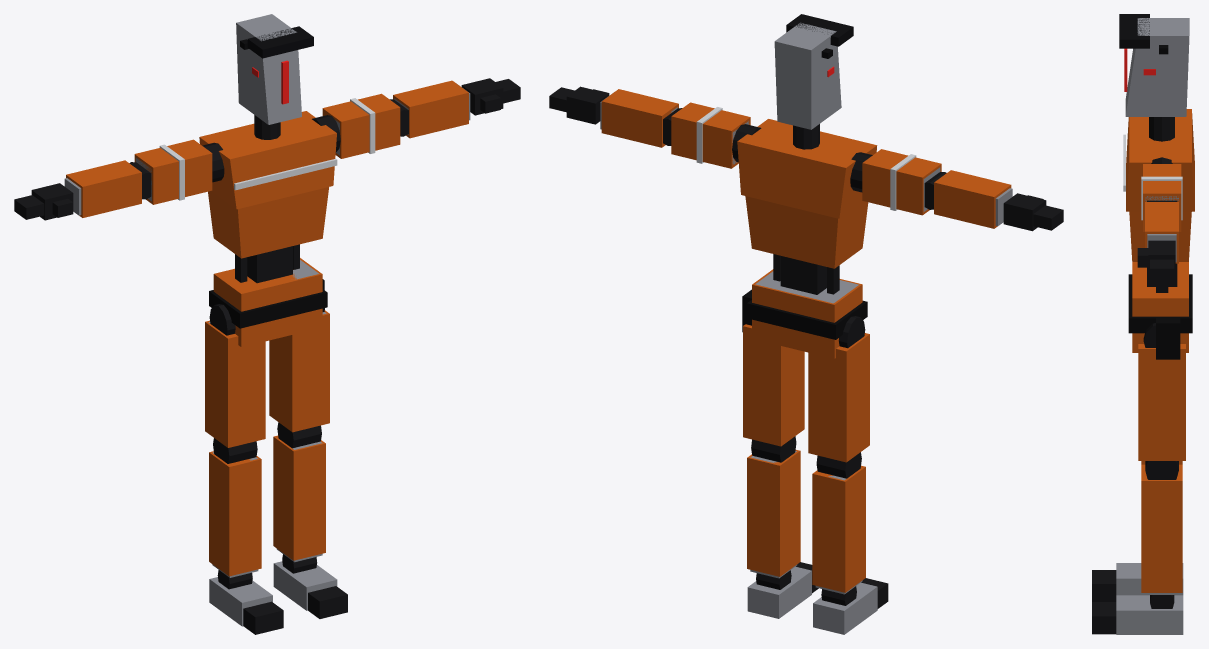
The model's file is char_F2_engineer.obj.
3 renders of one model, left to right at view 1: azimuth 30°, elevation 25°; view 2: azimuth 150°, elevation 25°; view 3: azimuth 270°, elevation 25°, orthographic. The views are drawn at different scales.
Parts seen in each view (by area): view 1: Coverall_Engineering, ChassisJoints, Chassis, ToolBelt, Coverall_Engineering_Stripe, WeldVisor_Plate; view 2: Coverall_Engineering, Chassis, ChassisJoints, ToolBelt, WeldVisor_Plate, Coverall_Engineering_Stripe; view 3: Coverall_Engineering, Chassis, ChassisJoints, ToolBelt, WeldVisor_Plate, Coverall_Engineering_Stripe, Eyes.
Boxes of the visible parts, <box> form: Coverall_Engineering: <box>66,80,468,576</box>; ChassisJoints: <box>14,78,520,634</box>; Chassis: <box>64,14,470,626</box>; ToolBelt: <box>209,279,327,328</box>; Coverall_Engineering_Stripe: <box>159,98,375,200</box>; WeldVisor_Plate: <box>247,26,313,58</box>; Coverall_Engineering: <box>601,89,1011,592</box>; Chassis: <box>600,22,1012,634</box>; ChassisJoints: <box>549,86,1063,608</box>; ToolBelt: <box>742,289,867,339</box>; WeldVisor_Plate: <box>786,14,853,46</box>; Coverall_Engineering_Stripe: <box>696,107,916,210</box>; Coverall_Engineering: <box>1126,109,1194,592</box>; Chassis: <box>1116,18,1189,634</box>; ChassisJoints: <box>1092,117,1178,634</box>; ToolBelt: <box>1128,274,1192,359</box>; WeldVisor_Plate: <box>1119,14,1149,48</box>; Coverall_Engineering_Stripe: <box>1123,134,1182,220</box>; Eyes: <box>1124,48,1155,91</box>.
Size of the model in its own units: 1.69 by 1.86 by 0.2974.
